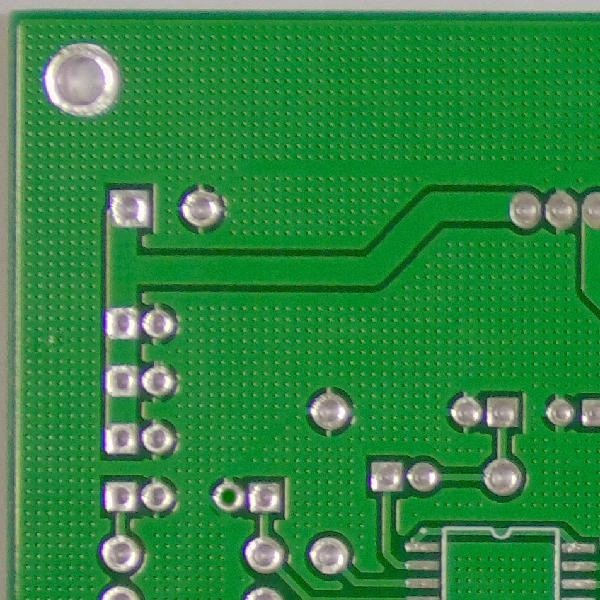missing_hole: (214, 477, 243, 512)
